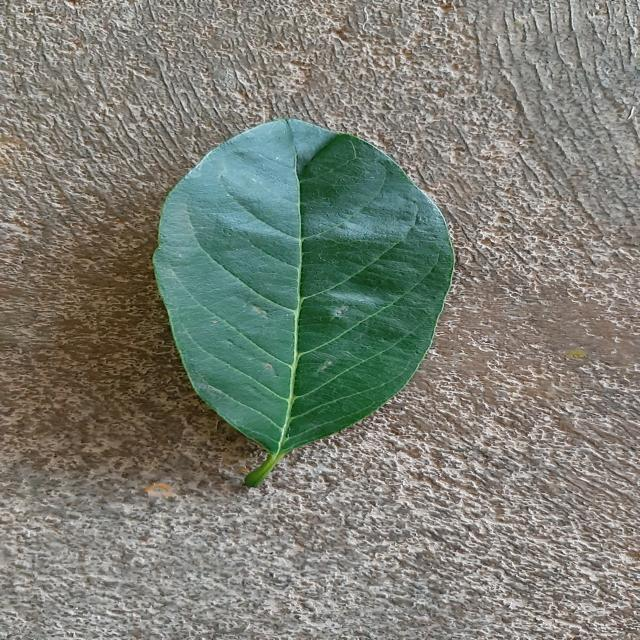seethaphala: (154, 119, 453, 486)
